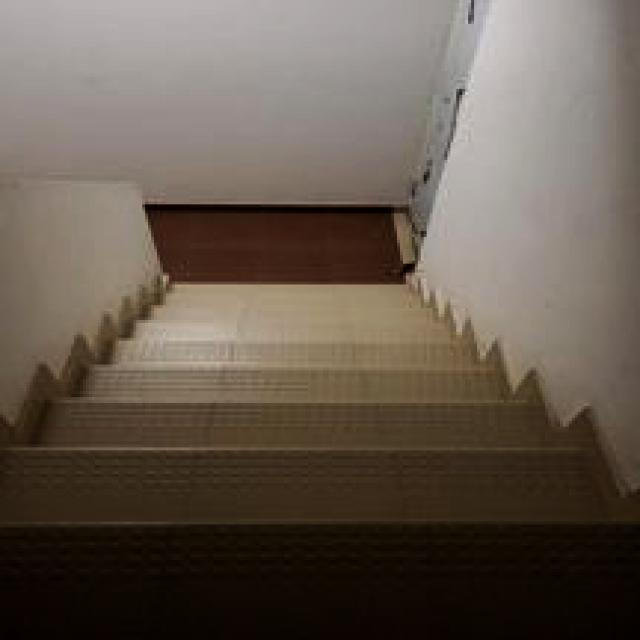downstair: (75, 386, 496, 585)
